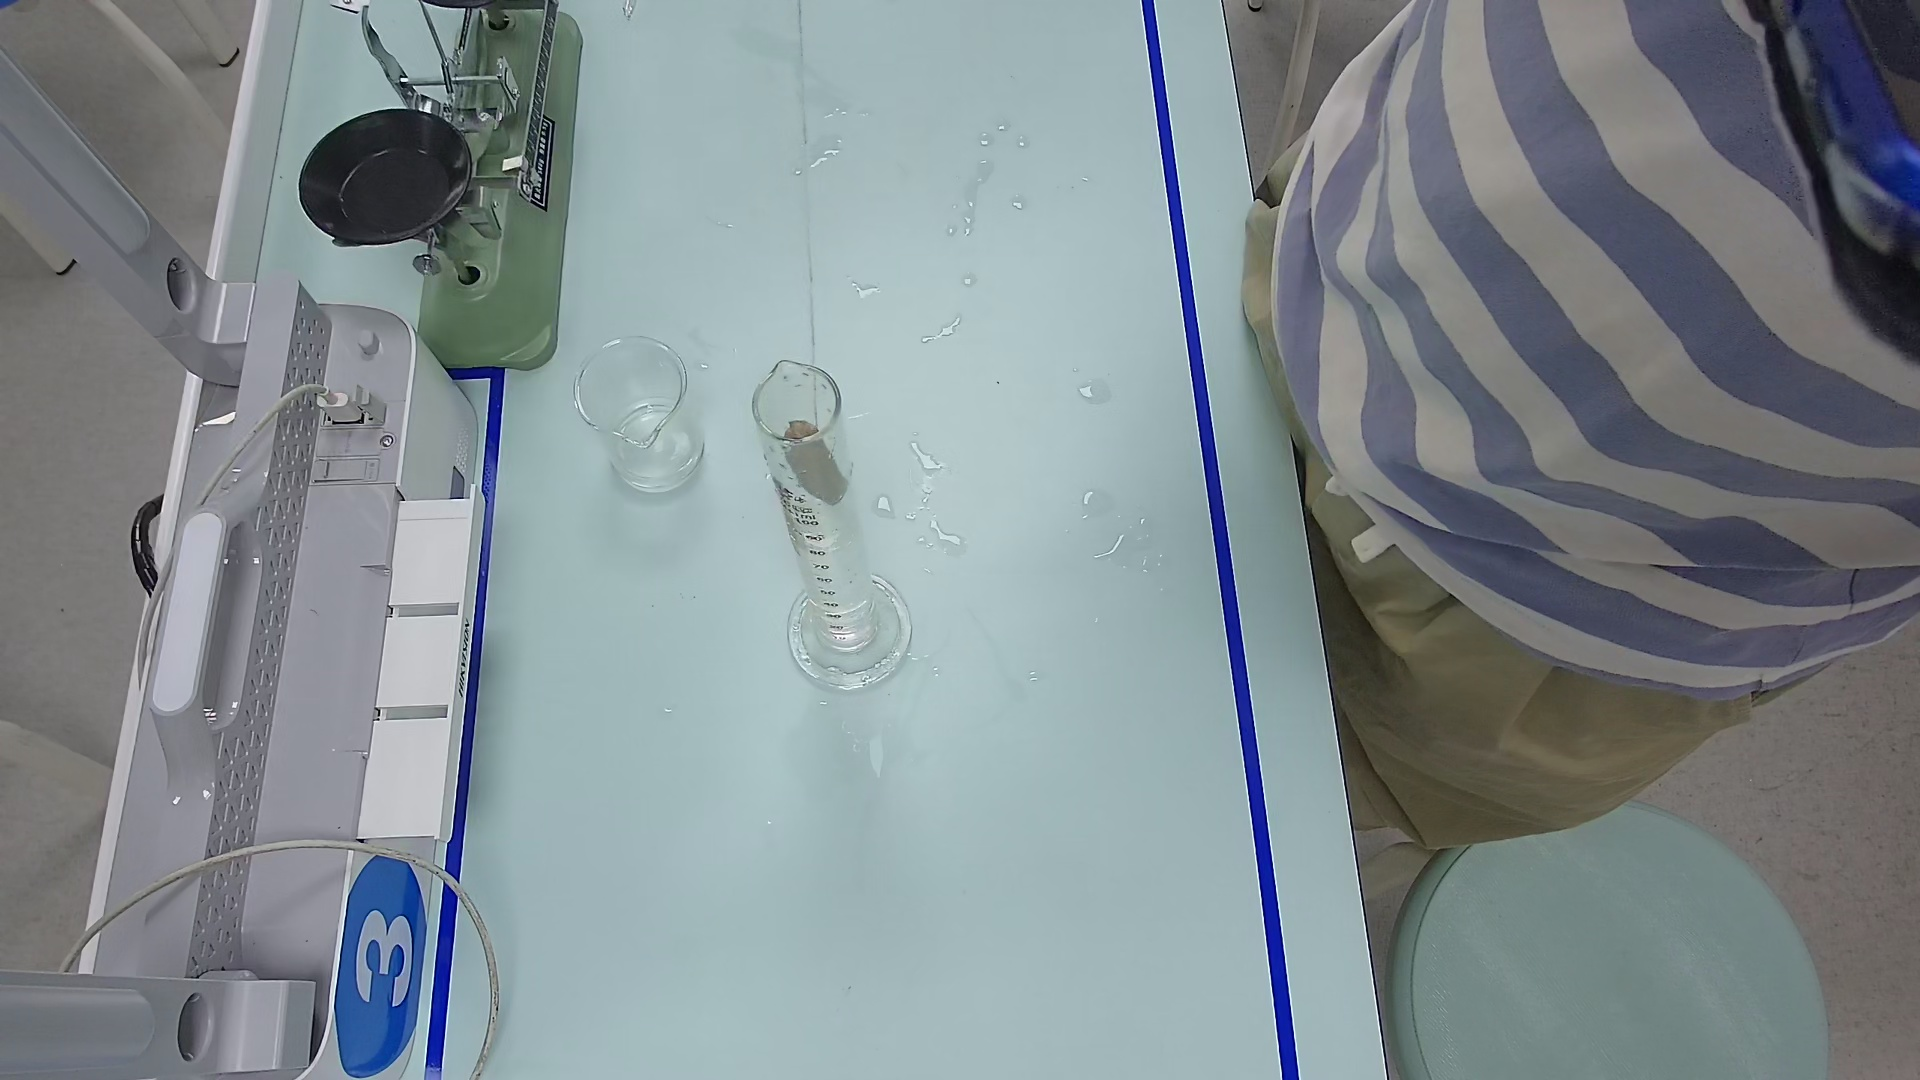ao: (782, 498, 864, 558)
bei: (560, 335, 695, 492)
liangdi: (781, 582, 915, 692)
liangtong: (749, 353, 911, 679)
shi: (781, 419, 845, 506)
tuo: (284, 109, 463, 262)
